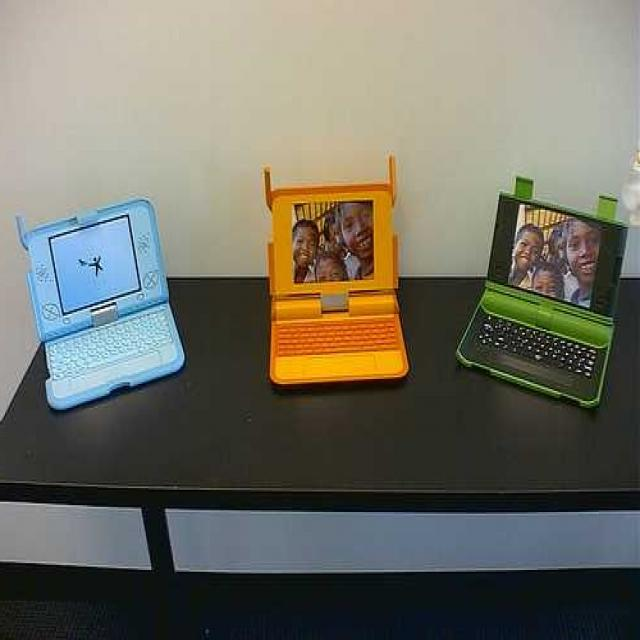laptop: (21, 198, 188, 409), (253, 172, 401, 404), (446, 204, 632, 388)
